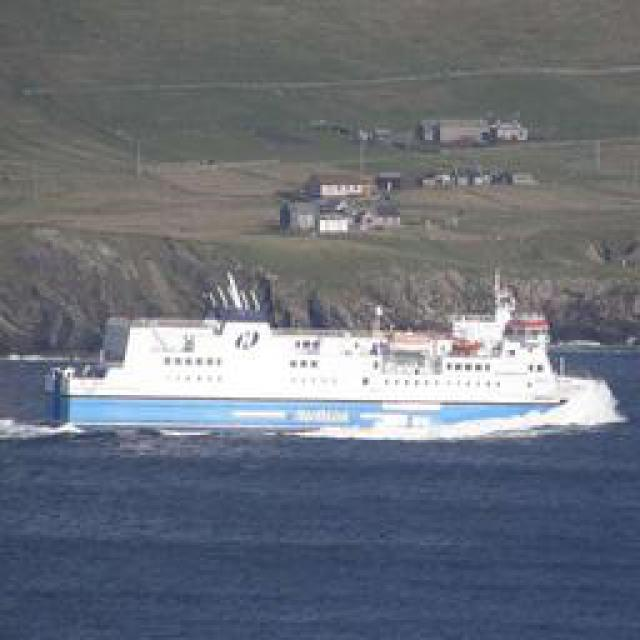Ship: (55, 302, 583, 425)
